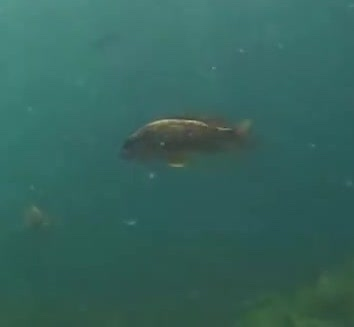smallfish: (116, 101, 251, 169)
